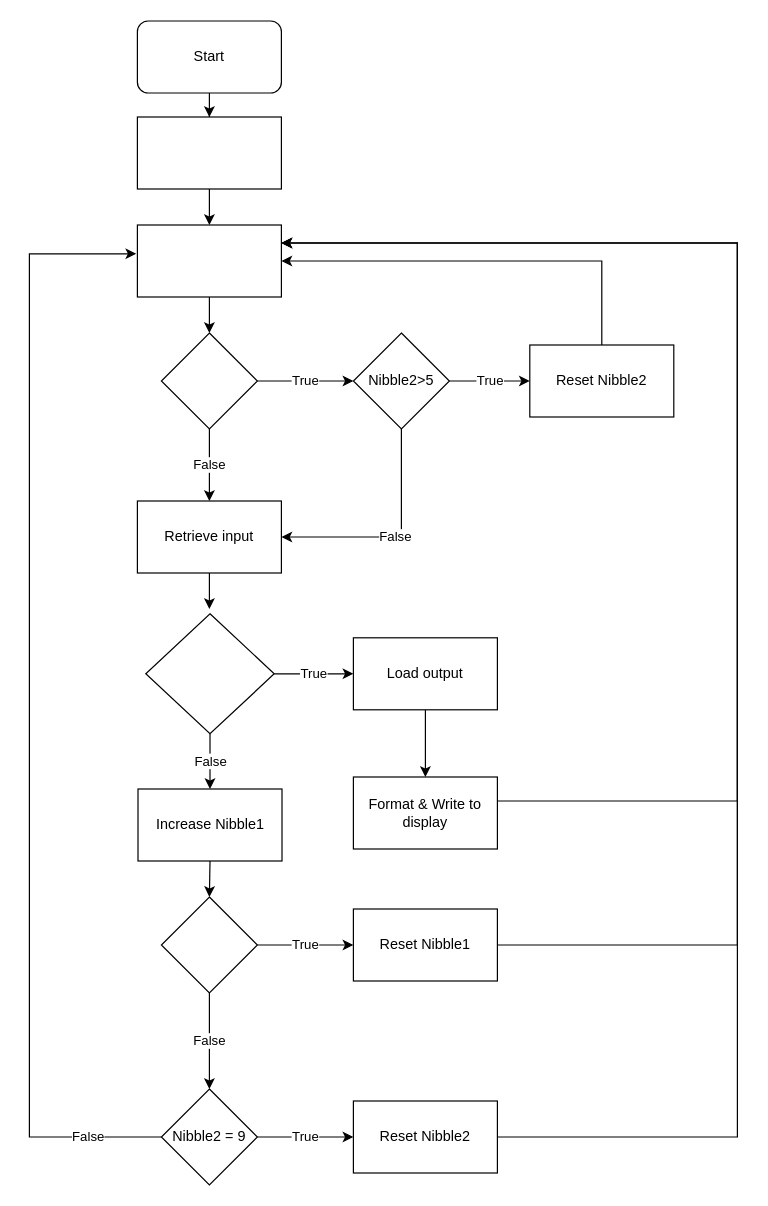
This 768x1206 diagram has some shape labels left out. Here are the shapes that lost their labels. From the top down, the centre of each, then its label:
the point at 208,152: Initialize display
the point at 208,260: Main loop
the point at 208,380: Nibble1 = 7?
the point at 209,673: Input == buttonPressed
the point at 208,944: Nibble1 = 7
